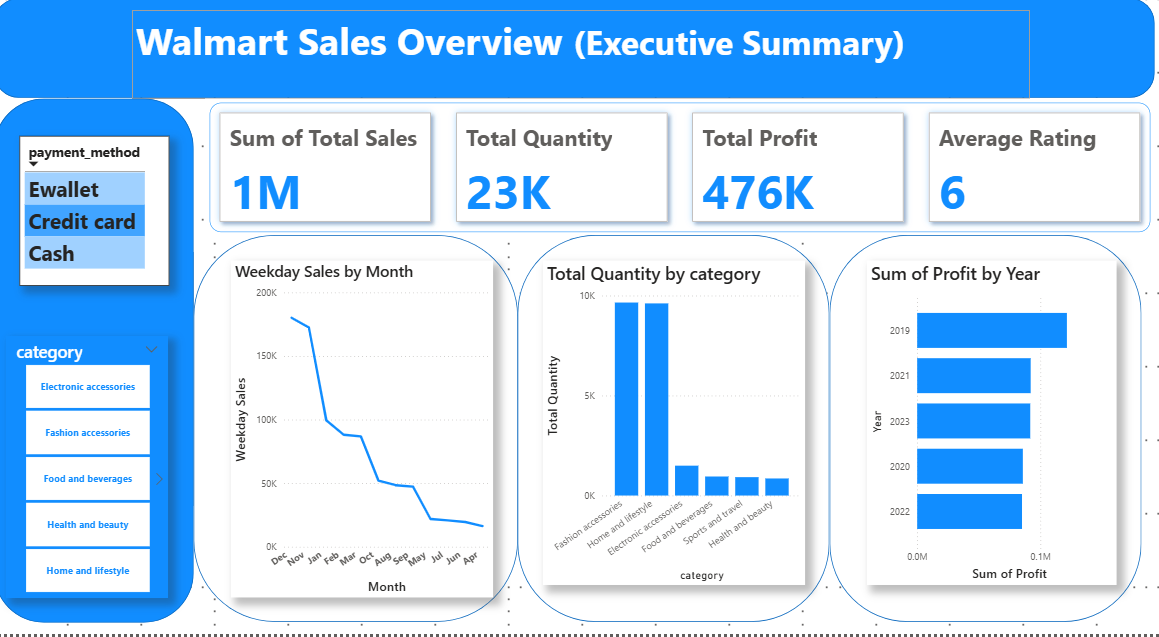

The page's visual inventory and layout, read from the dashboard file:
{"tool":"powerbi","page":{"name":"Page 1","canvas":[1500,815],"ordinal":0},"visuals":[{"type":"shape","box":[0,0,1488,128],"z":0},{"type":"textbox","box":[176,16,1152,112],"z":1000},{"type":"shape","box":[0,128,256,672],"z":2000},{"type":"cardVisual","fields":{"Data":["Sum(walmart_clean_data.Total Sales)","walmart_clean_data.Total Quantity","walmart_clean_data.Total Profit","walmart_clean_data.Average Rating"]},"box":[272,128,1216,176],"z":3000},{"type":"shape","box":[256,304,416,496],"z":4000},{"type":"shape","box":[672,304,400,496],"z":5000},{"type":"lineChart","fields":{"Category":["walmart_clean_data.Month"],"Y":["walmart_clean_data.Weekday Sales"]},"box":[304,336,336,432],"z":6000},{"type":"columnChart","fields":{"Category":["walmart_clean_data.category"],"Y":["walmart_clean_data.Total Quantity"]},"box":[704,336,336,416],"z":7000},{"type":"tableEx","fields":{"Values":["walmart_clean_data.payment_method"]},"box":[32,176,192,192],"z":8000},{"type":"slicer","fields":{"Values":["walmart_clean_data.category"]},"box":[16,432,208,336],"z":9000},{"type":"shape","box":[1072,304,400,496],"z":10000},{"type":"barChart","fields":{"Category":["walmart_clean_data.Year"],"Y":["Sum(walmart_clean_data.Profit)"]},"box":[1120,336,320,416],"z":11000}]}

Visuals, with their boxes in screenshot pixels (x1, y1, x2, y2), scaled from the page's 1500x815 canvas onto the 1159x637 screenshot:
shape: [x1=0, y1=0, x2=1150, y2=100]
textbox: [x1=136, y1=13, x2=1026, y2=100]
shape: [x1=0, y1=100, x2=198, y2=625]
cardVisual - Sum(walmart_clean_data.Total Sales) x walmart_clean_data.Total Quantity: [x1=210, y1=100, x2=1150, y2=238]
shape: [x1=198, y1=238, x2=519, y2=625]
shape: [x1=519, y1=238, x2=828, y2=625]
lineChart - walmart_clean_data.Month x walmart_clean_data.Weekday Sales: [x1=235, y1=263, x2=495, y2=600]
columnChart - walmart_clean_data.category x walmart_clean_data.Total Quantity: [x1=544, y1=263, x2=804, y2=588]
tableEx - walmart_clean_data.payment_method: [x1=25, y1=138, x2=173, y2=288]
slicer - walmart_clean_data.category: [x1=12, y1=338, x2=173, y2=600]
shape: [x1=828, y1=238, x2=1137, y2=625]
barChart - walmart_clean_data.Year x Sum(walmart_clean_data.Profit): [x1=865, y1=263, x2=1113, y2=588]
